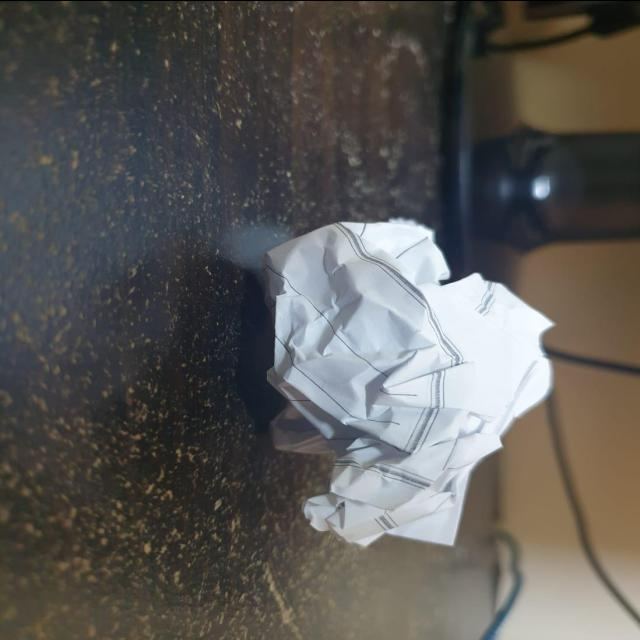kertas: (250, 217, 556, 549)
